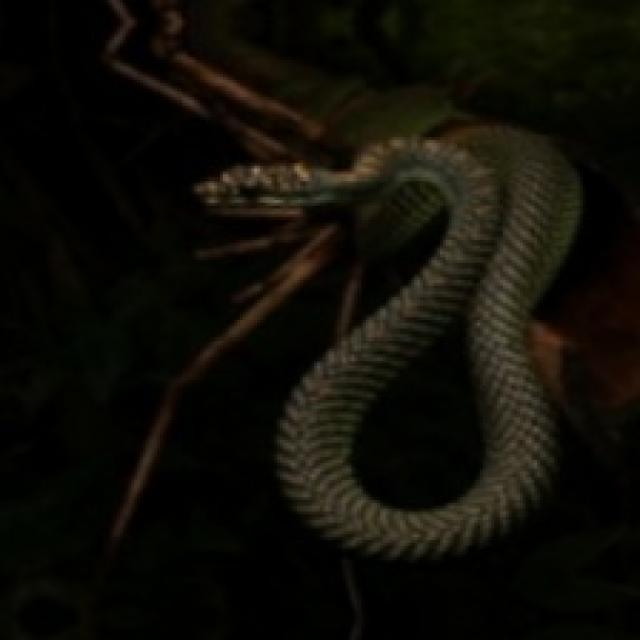paradise tree snake: (277, 126, 580, 557), (349, 311, 486, 509)
